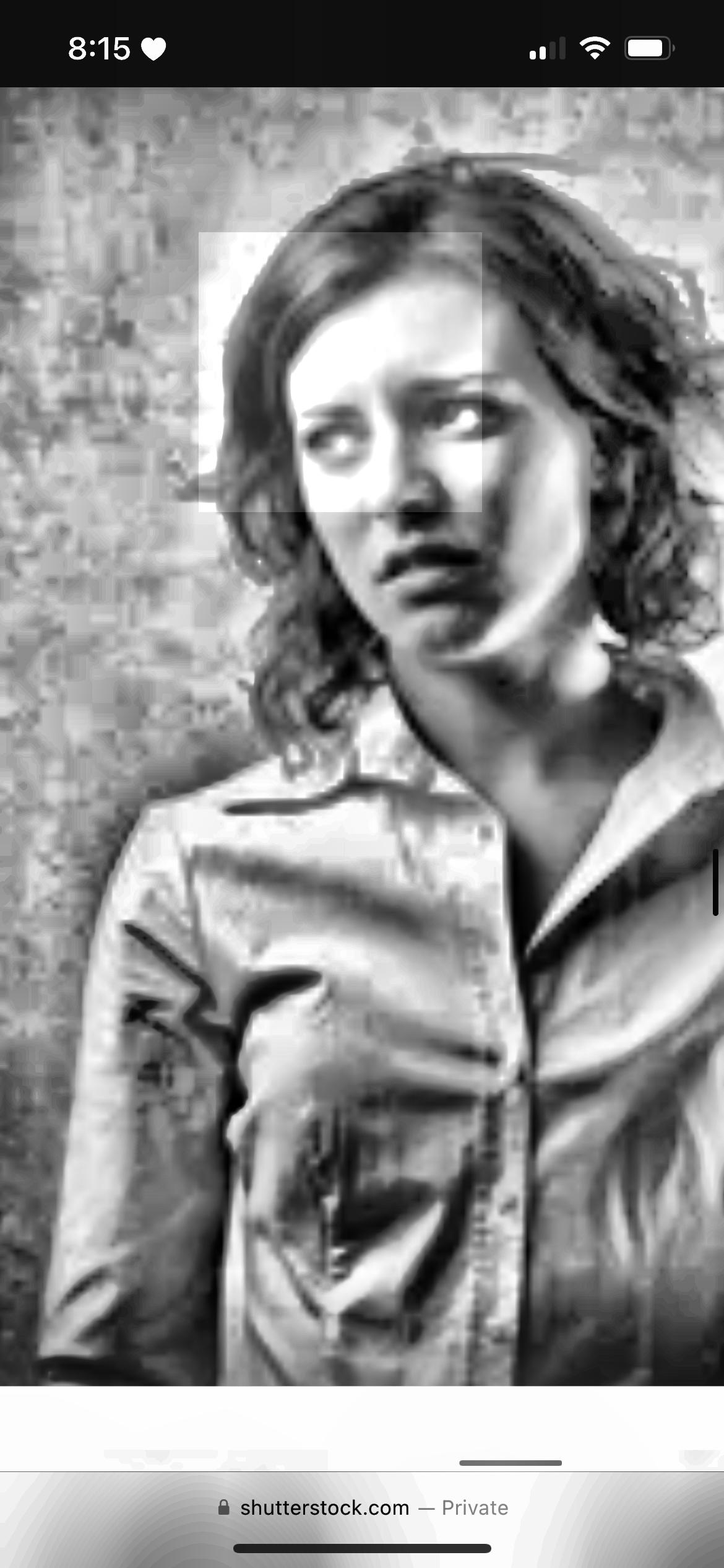sad: (246, 287, 596, 633)
